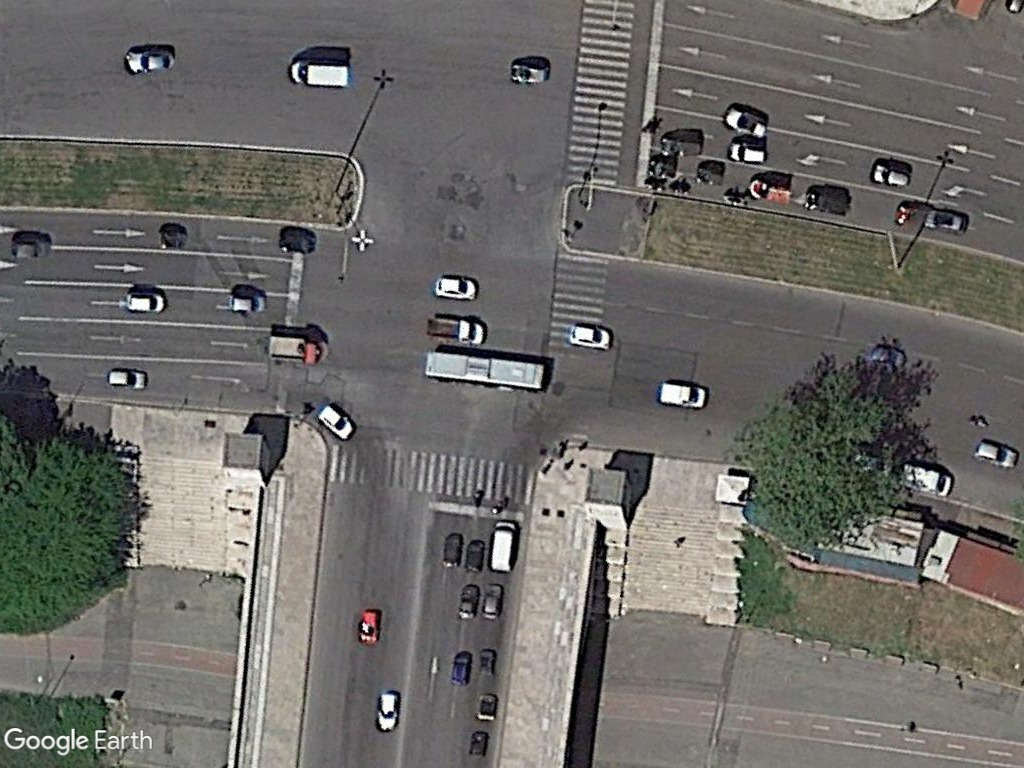bus: (417, 347, 547, 390)
car: (721, 101, 770, 140), (121, 45, 179, 77), (310, 402, 357, 441), (970, 436, 1022, 469), (5, 232, 57, 263), (565, 320, 615, 351), (866, 159, 914, 191), (431, 272, 482, 302), (119, 288, 170, 315), (372, 689, 401, 736), (221, 288, 271, 315), (103, 365, 152, 392), (724, 142, 771, 166), (480, 579, 505, 623), (455, 581, 479, 625), (449, 648, 474, 690)
other: (262, 331, 328, 367), (423, 313, 489, 347), (275, 224, 320, 257), (920, 205, 970, 234), (356, 607, 383, 650), (507, 59, 549, 86)
van: (283, 57, 354, 90), (899, 459, 955, 497), (654, 377, 711, 413), (486, 517, 517, 576)
